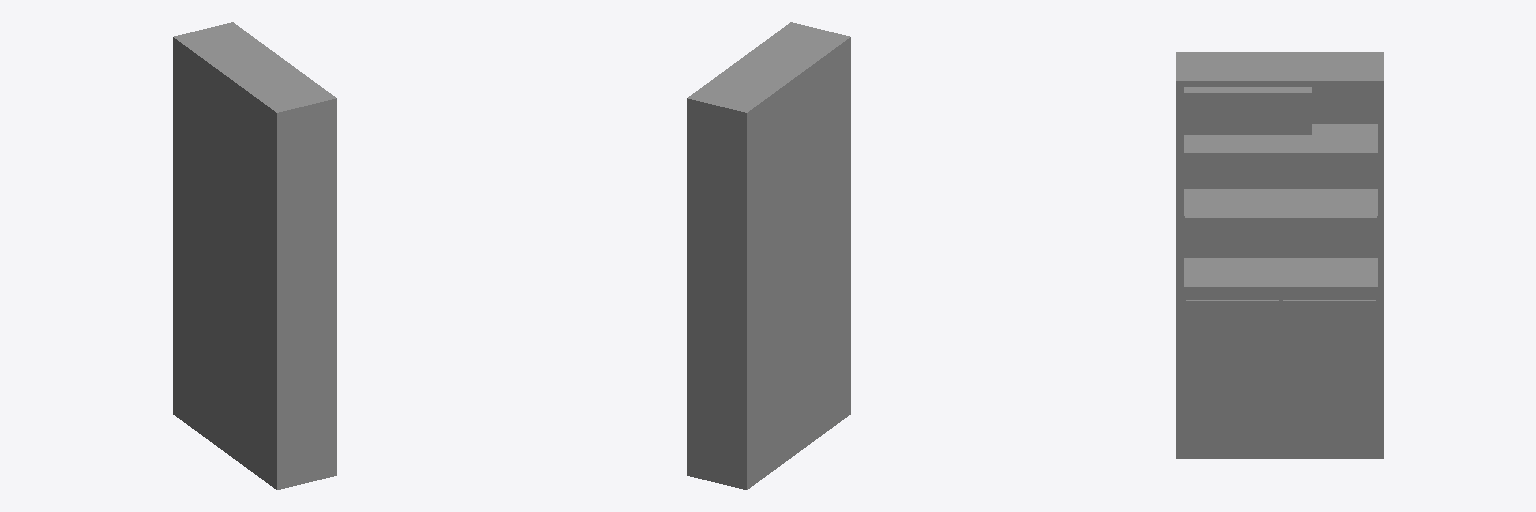
File: Stack_Top.obj
3 renders of one model, left to right at view 1: azimuth 30°, elevation 25°; view 2: azimuth 150°, elevation 25°; view 3: azimuth 270°, elevation 25°, orthographic.
Parts seen in each view (by area): view 1: Shelf_Body_Cube.001; view 2: Shelf_Body_Cube.001; view 3: Shelf_Body_Cube.001, Stack_Top_Cube.005.
Boxes of the visible parts, x1=… form: Shelf_Body_Cube.001: x1=173, y1=22, x2=336, y2=489; Shelf_Body_Cube.001: x1=687, y1=22, x2=850, y2=489; Shelf_Body_Cube.001: x1=1176, y1=52, x2=1383, y2=458; Stack_Top_Cube.005: x1=1184, y1=87, x2=1311, y2=134.
Bounding box in the file's own units: 62 × 360 × 180.